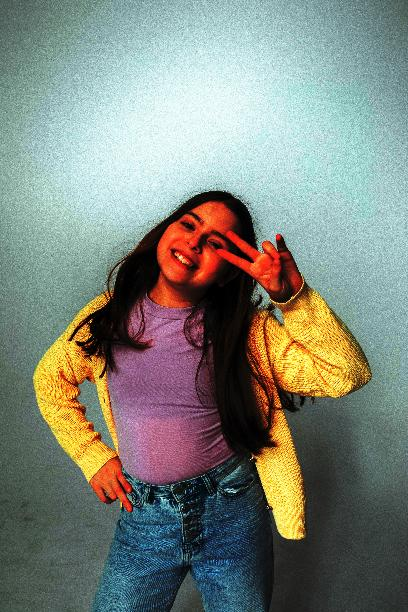Scissors: (217, 226, 306, 301)
